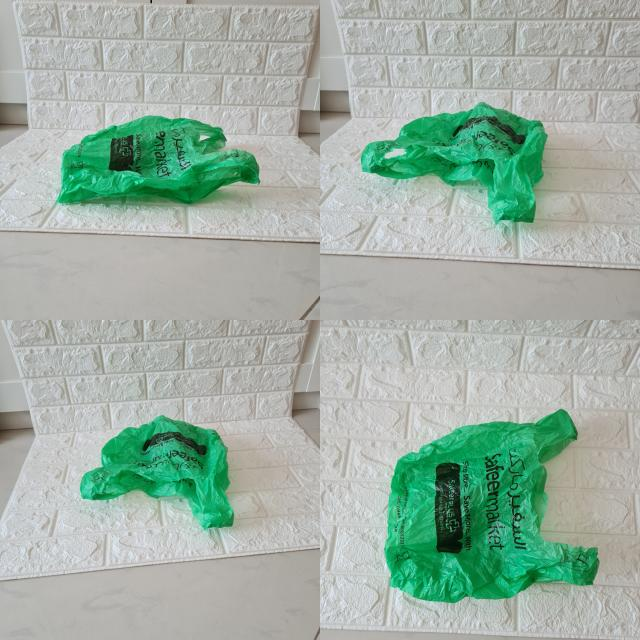Single-layer Plastic: (385, 410, 599, 602), (361, 102, 548, 223), (56, 115, 260, 204), (80, 415, 234, 528)
